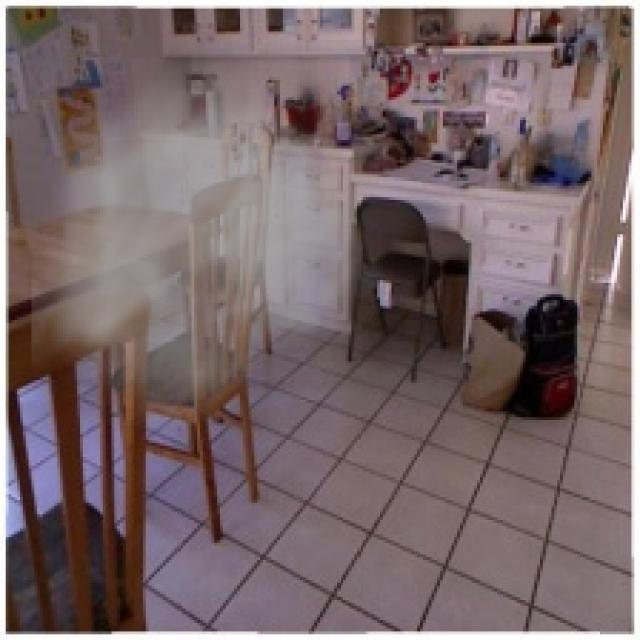Smoke: (31, 43, 400, 440)
